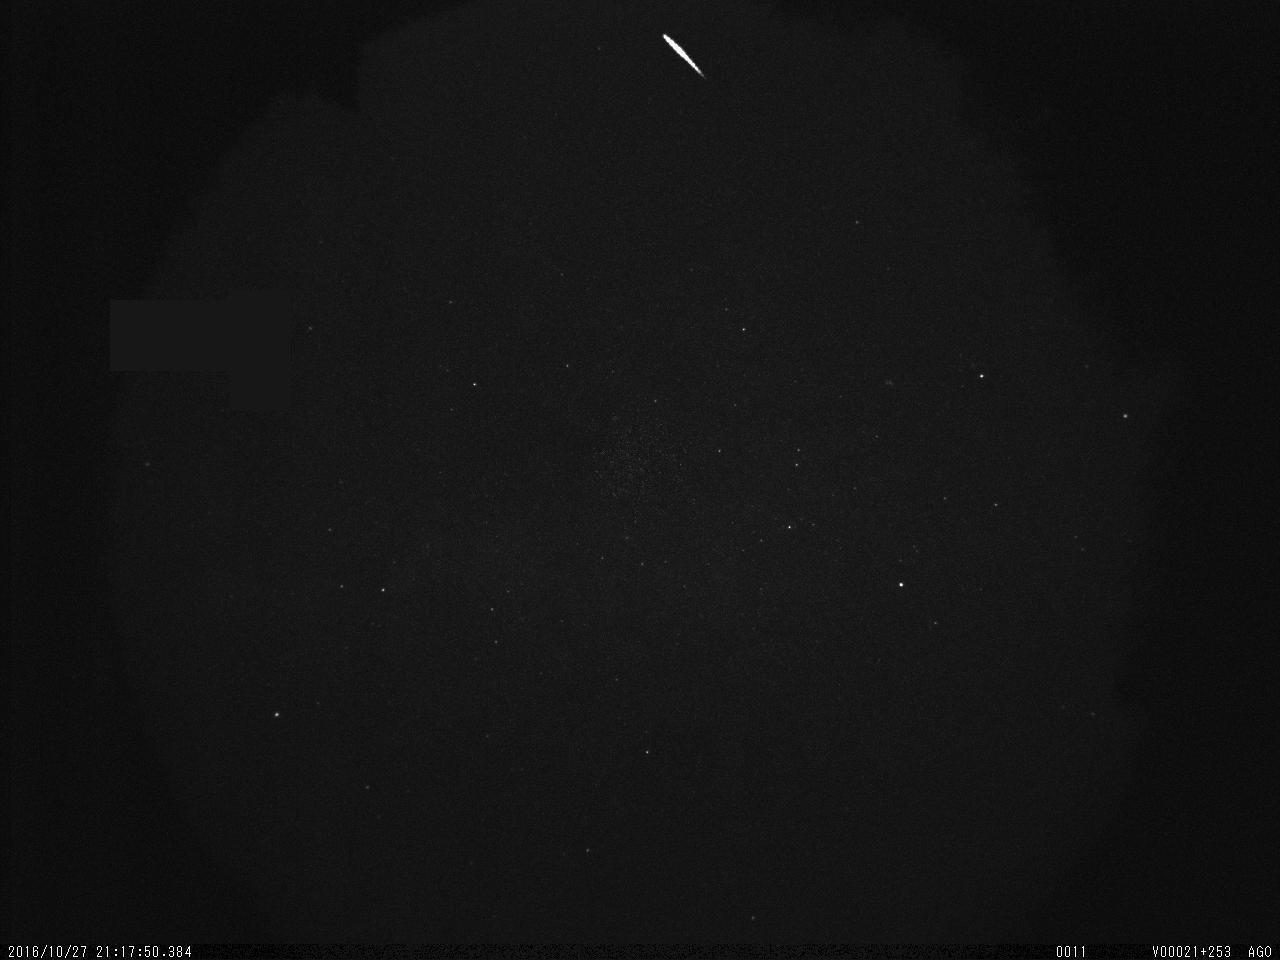Meteor: (660, 31, 706, 81)
